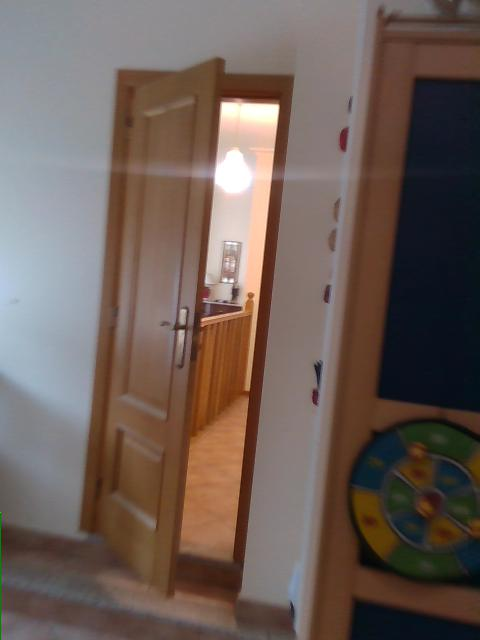semi_door: (76, 55, 296, 606)
